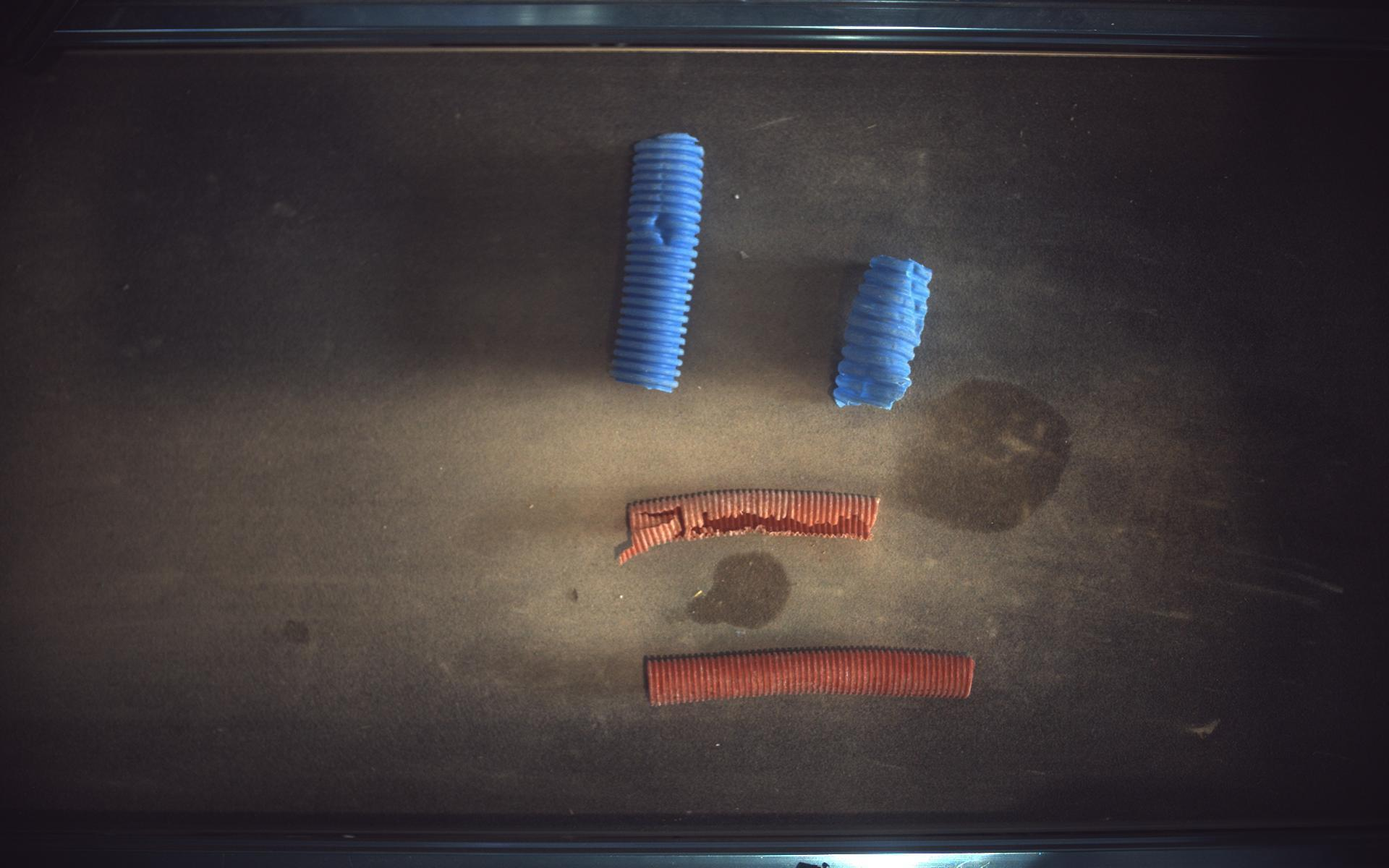pipes: (611, 132, 705, 393), (619, 489, 881, 565), (645, 650, 977, 707), (834, 255, 935, 410)
